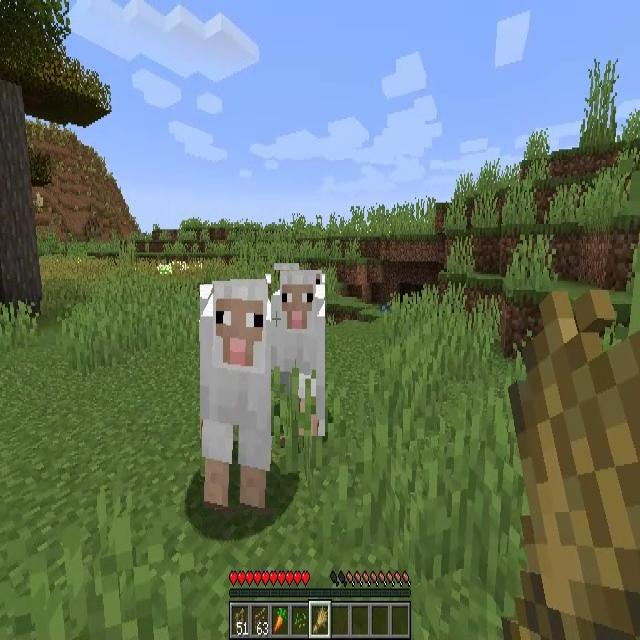sheep: (200, 284, 280, 508), (271, 270, 325, 436)
